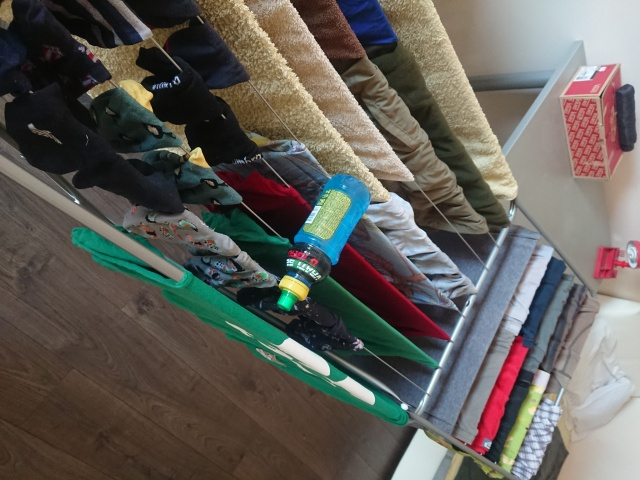Vindi Iso Sport Forest Strawberries 500mL: (275, 170, 372, 312)
